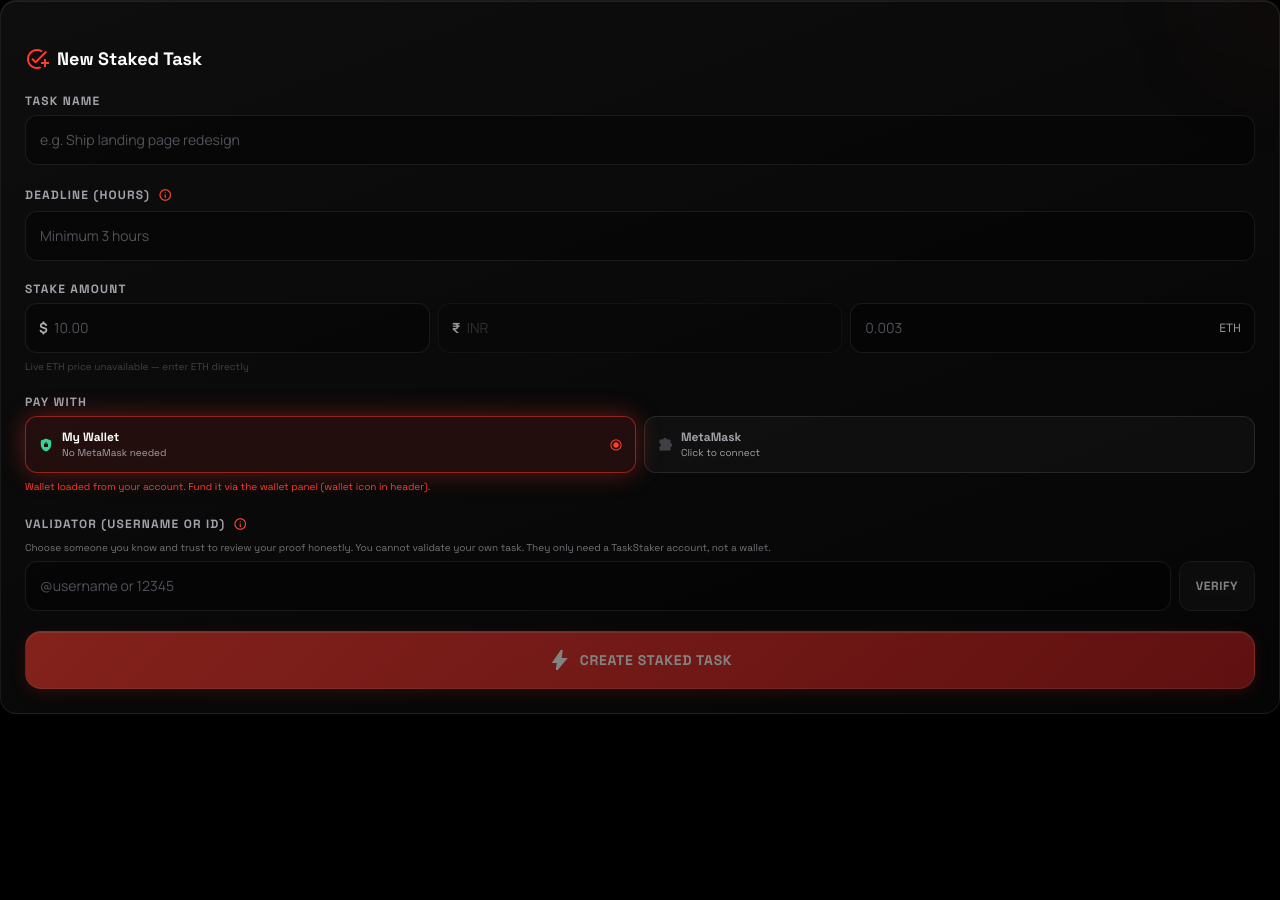
Test: stake amount conversion › price that loads late fills the other box, and a price move updates it
Later steps or results of the test are not shown.
Expected: the text "Live ETH price unavailable — enter ETH directly" is shown, [25,360,249,373]
In the number field with placeholder "10.00": (227, 328) [25,303,430,353], type "10"
Wait 36500 ms
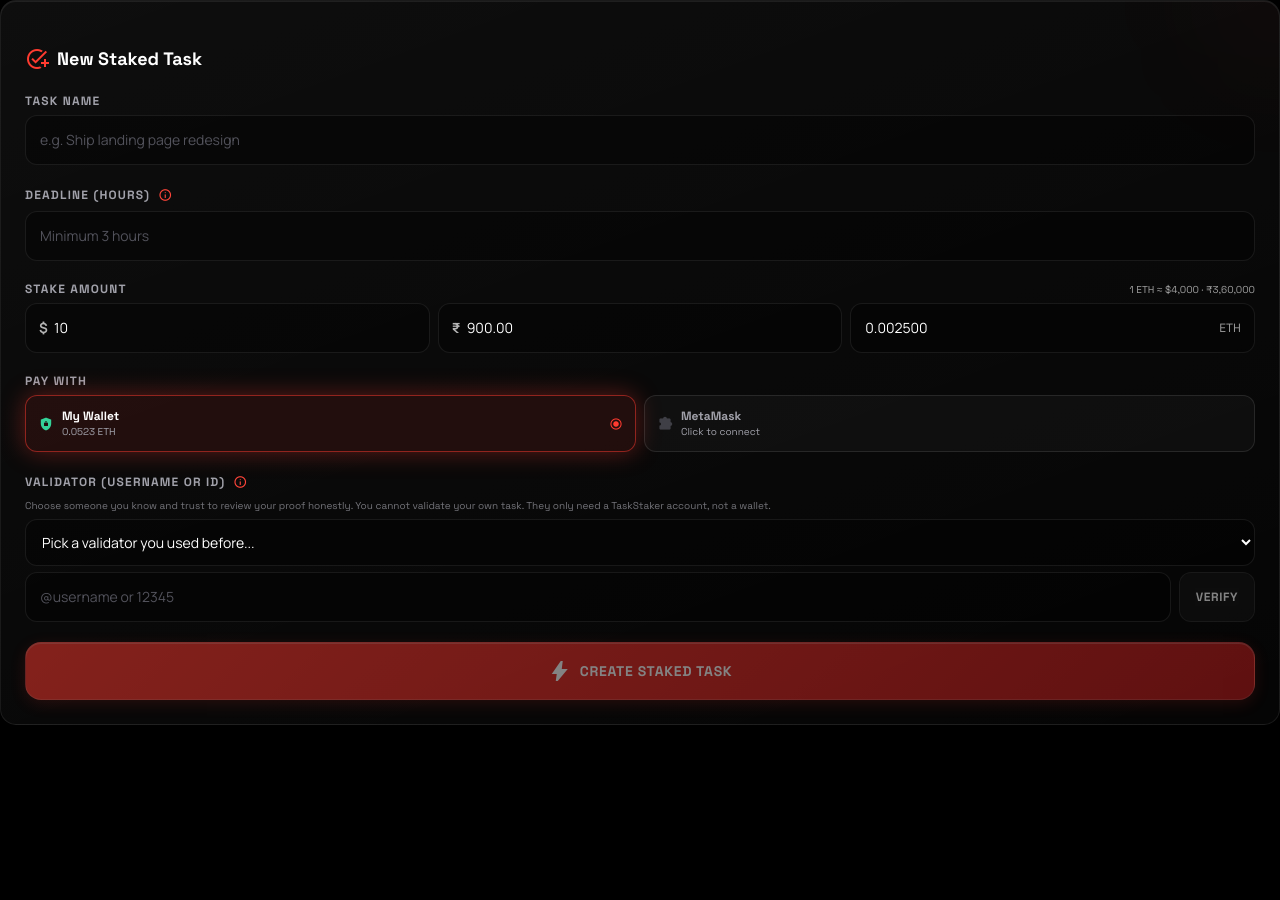
Result: the 3rd number field with placeholder "0.003" holds "0.002500" at [850,303,1255,353]
